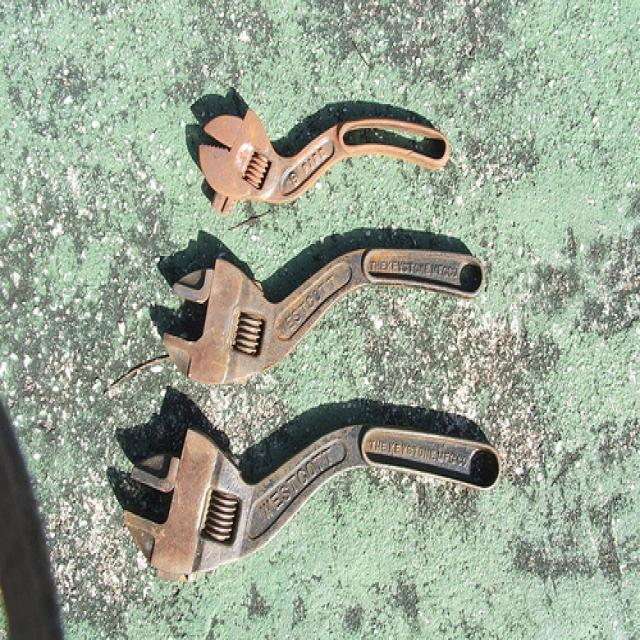wrench: (112, 414, 506, 592), (140, 234, 488, 392), (181, 95, 456, 219)
